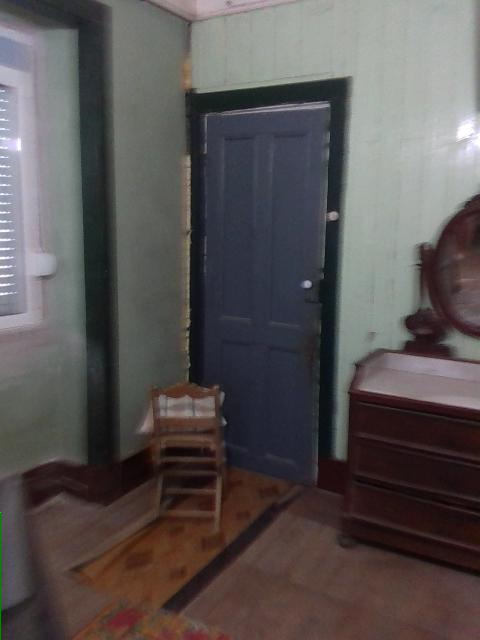door: (186, 77, 349, 489)
